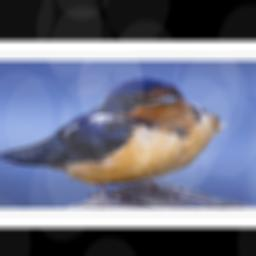Swallow: (0, 75, 229, 205)
